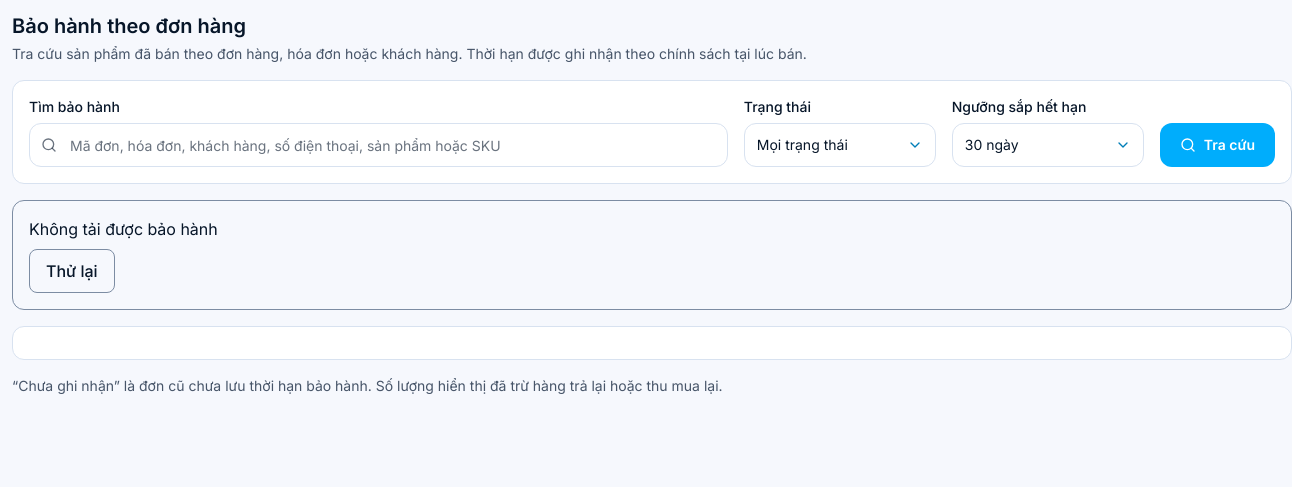
Test: shows an actionable error and retries the same query
This screenshot has width=1292, height=487.
Click the button "Thử lại": (72, 271) [29,249,115,293]
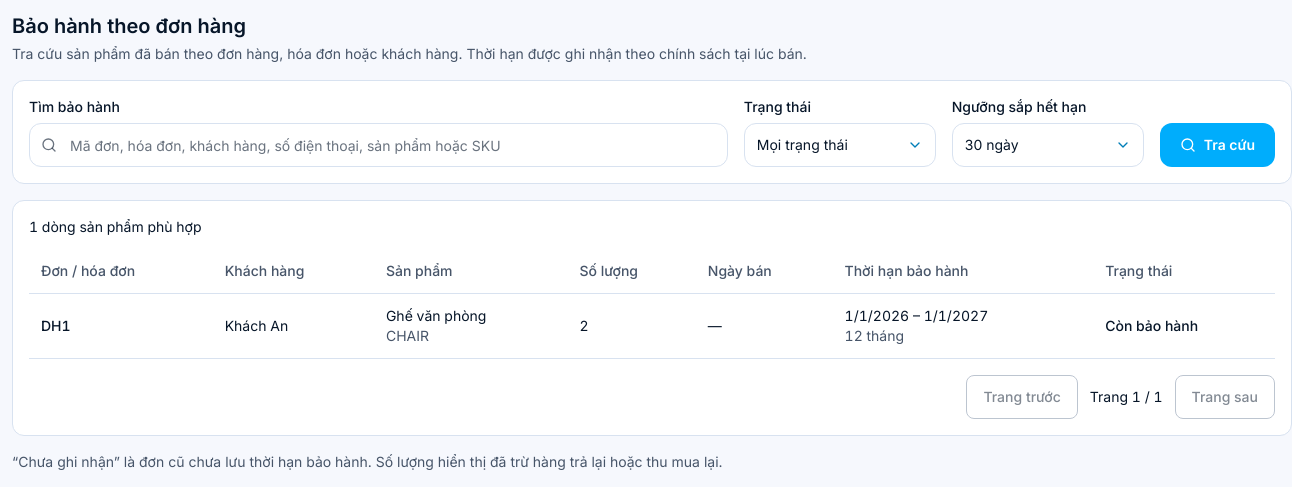
Now the text "Ghế văn phòng" is shown, box [386,307,486,324]
